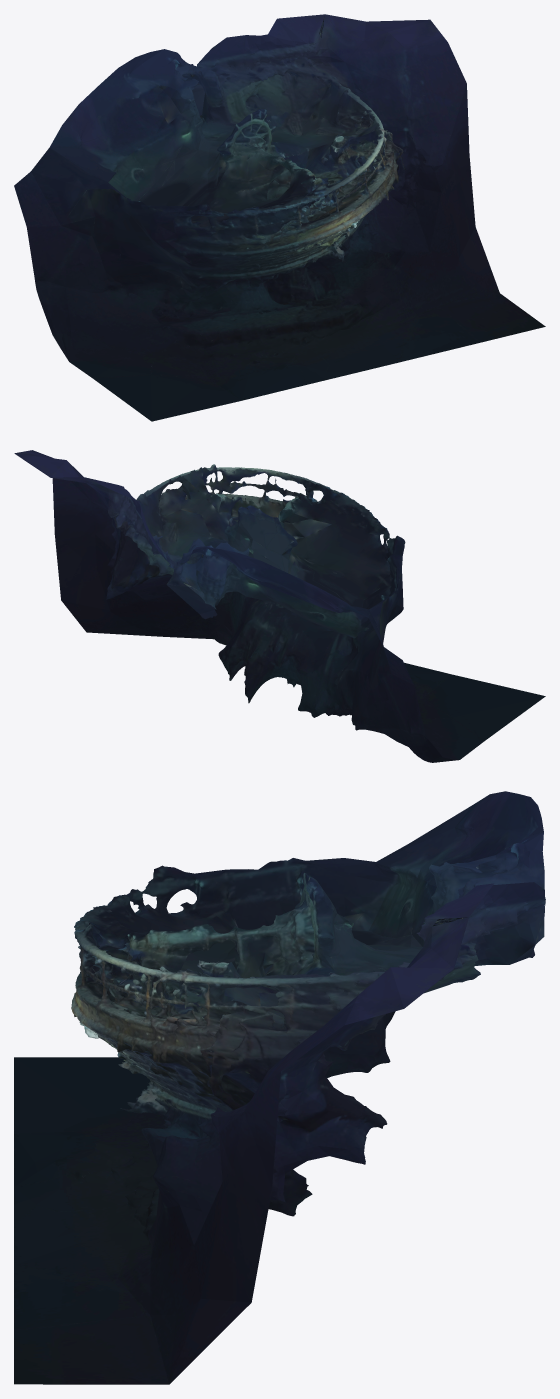
The model's file is endurance-wreck-CCtxlhsu.glb.
3 views of the same model, one above another, from view 1: azimuth 30°, elevation 25°; view 2: azimuth 150°, elevation 25°; view 3: azimuth 270°, elevation 25° (orthographic). The views are drawn at different scales.
Parts seen in each view (by area): view 1: Object_4; view 2: Object_4; view 3: Object_4.
Boxes of the visible parts, box(x1,y1,x2,y2) form: Object_4: box(14, 14, 545, 421); Object_4: box(14, 450, 545, 762); Object_4: box(14, 791, 545, 1384).
Bounding box in the file's own units: 2.39 × 1.36 × 1.65.
Materials: 1 (1 with a texture image).
